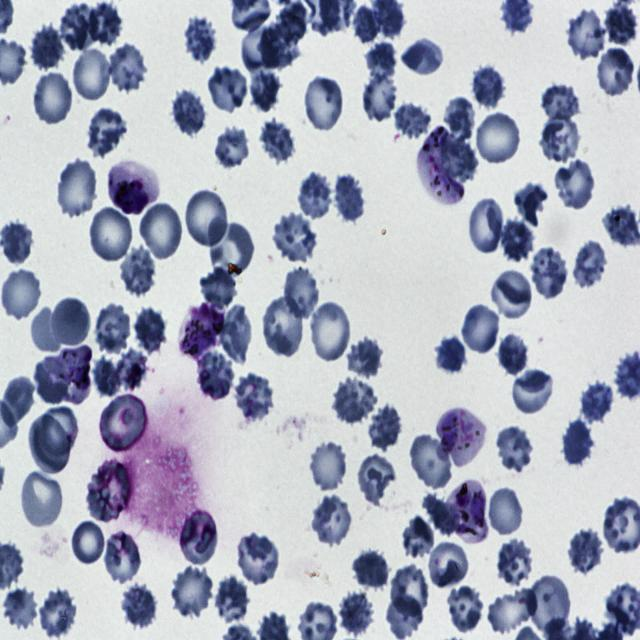difficult: (177, 301, 226, 364)
red blood cell: (85, 457, 132, 528), (99, 392, 149, 454), (208, 218, 256, 281), (183, 186, 230, 250), (87, 202, 134, 266), (261, 293, 306, 359), (308, 298, 352, 364), (138, 200, 184, 262), (408, 431, 455, 491), (474, 111, 523, 167), (20, 468, 64, 530), (55, 158, 97, 222), (28, 414, 70, 476), (270, 210, 318, 264), (234, 530, 279, 587), (231, 368, 275, 426), (565, 6, 609, 64), (178, 505, 218, 568), (101, 527, 142, 588), (303, 74, 346, 132), (527, 576, 570, 634), (552, 157, 598, 210), (311, 492, 354, 547), (50, 295, 92, 351), (511, 365, 556, 417), (356, 451, 397, 508), (104, 42, 148, 95), (32, 71, 74, 126), (331, 376, 380, 423), (488, 588, 538, 634), (467, 196, 505, 256), (529, 246, 569, 303), (85, 104, 128, 157), (282, 263, 322, 319), (169, 567, 211, 620), (2, 267, 43, 321), (196, 348, 236, 403), (207, 64, 251, 114), (390, 560, 427, 619), (461, 302, 501, 356), (308, 438, 348, 492), (428, 539, 470, 590), (92, 301, 132, 354), (218, 304, 252, 366), (596, 46, 637, 97), (58, 1, 99, 52), (364, 404, 406, 452), (297, 170, 335, 223), (120, 243, 158, 295), (117, 581, 158, 629), (496, 538, 535, 588), (564, 526, 604, 574), (72, 46, 107, 100), (400, 35, 444, 77), (492, 271, 532, 317), (344, 333, 384, 379), (488, 487, 524, 538), (351, 546, 390, 593), (330, 173, 365, 225), (539, 118, 581, 161), (132, 303, 166, 356), (472, 62, 508, 112), (40, 408, 76, 458), (572, 238, 607, 289), (40, 590, 75, 640), (213, 124, 251, 169), (1, 373, 34, 424), (447, 585, 482, 633), (364, 73, 398, 122), (496, 427, 533, 472), (340, 591, 376, 637), (171, 86, 204, 136), (71, 519, 106, 566), (442, 136, 477, 183), (88, 1, 122, 49), (201, 264, 237, 309), (214, 576, 249, 622), (579, 381, 613, 428), (387, 595, 422, 640), (540, 83, 582, 120), (499, 218, 536, 260), (260, 119, 296, 162), (0, 219, 34, 264), (402, 514, 435, 560), (32, 23, 64, 70), (443, 96, 475, 142), (564, 417, 594, 466), (394, 98, 429, 140), (494, 331, 528, 374), (185, 17, 216, 64), (115, 349, 148, 391), (248, 70, 280, 111), (3, 590, 37, 628), (436, 334, 468, 374), (364, 41, 396, 81), (92, 358, 122, 399), (353, 5, 381, 44)
schizont: (108, 159, 158, 216)
trophozoite: (417, 124, 465, 207), (436, 407, 485, 470), (444, 476, 490, 543), (42, 346, 92, 401)
